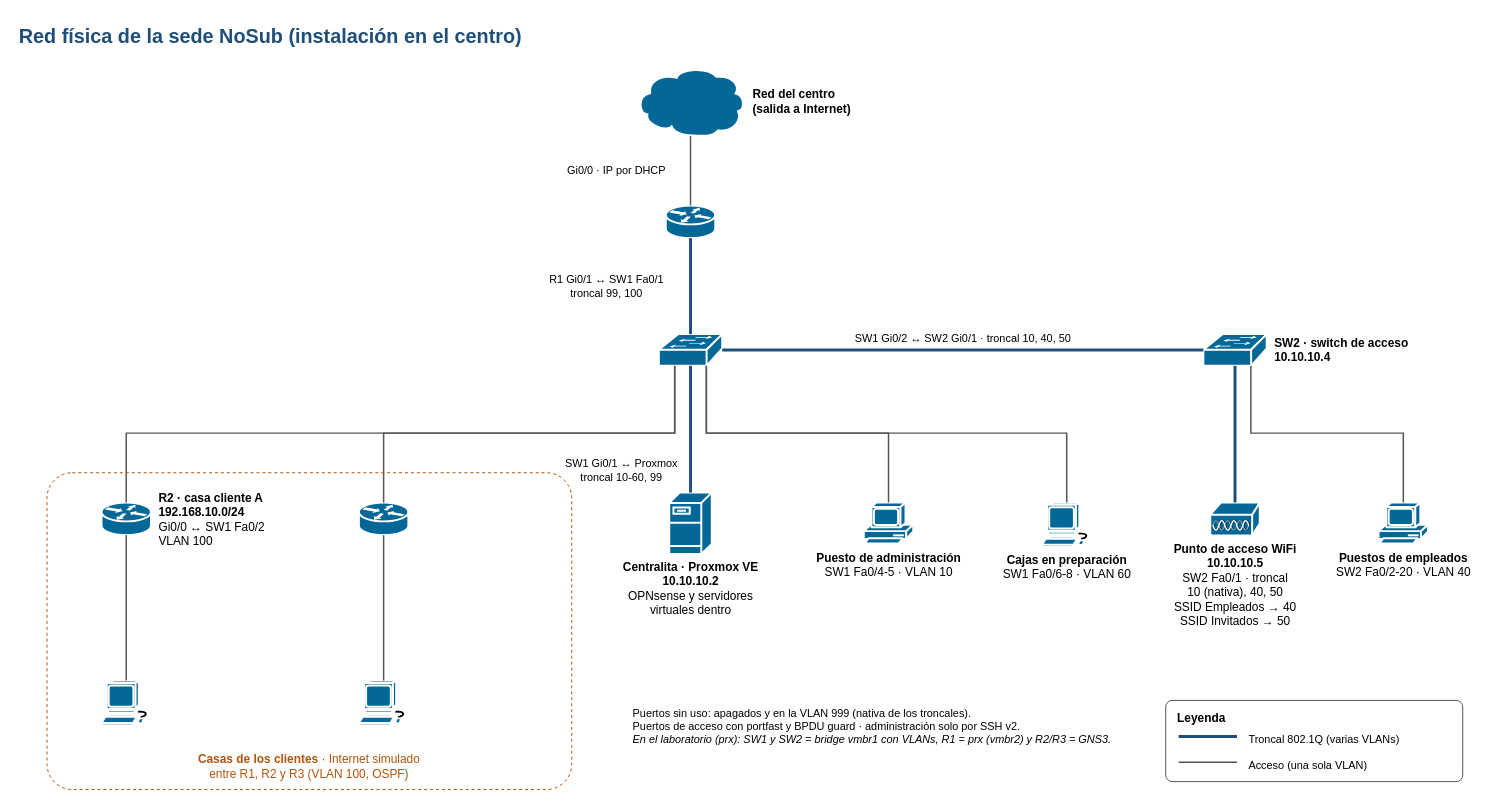
Image size: 1487x807. Some labels were removed from this diagram. The centre of each missing label's shape, as x and y in pixels:
Caja cliente A (mini PC) en R2 Gi0/1: (125,702)
Caja cliente B (mini PC) en R3 Gi0/1: (383,702)
R1 · router de borde NAT · OSPF: (690,221)
R3 · oficina cliente B 192.168.20.0/24 Gi0/0 ↔ SW1 Fa0/3 VLAN 100: (383,518)
SW1 · switch núcleo 10.10.10.3 · raíz STP: (690,349)
